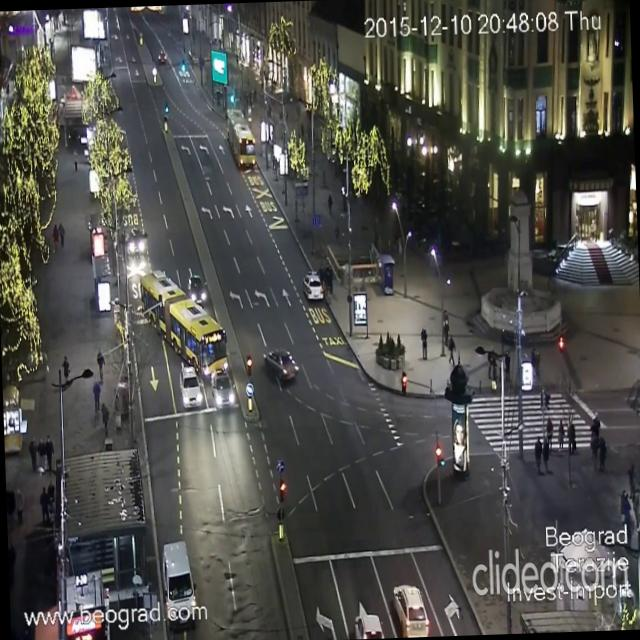bus: (138, 267, 228, 379), (224, 106, 256, 169)
car: (161, 532, 194, 622), (392, 582, 429, 637), (179, 362, 206, 418), (262, 346, 299, 382), (210, 371, 238, 409), (184, 274, 207, 304), (354, 615, 382, 639), (302, 272, 324, 300)
